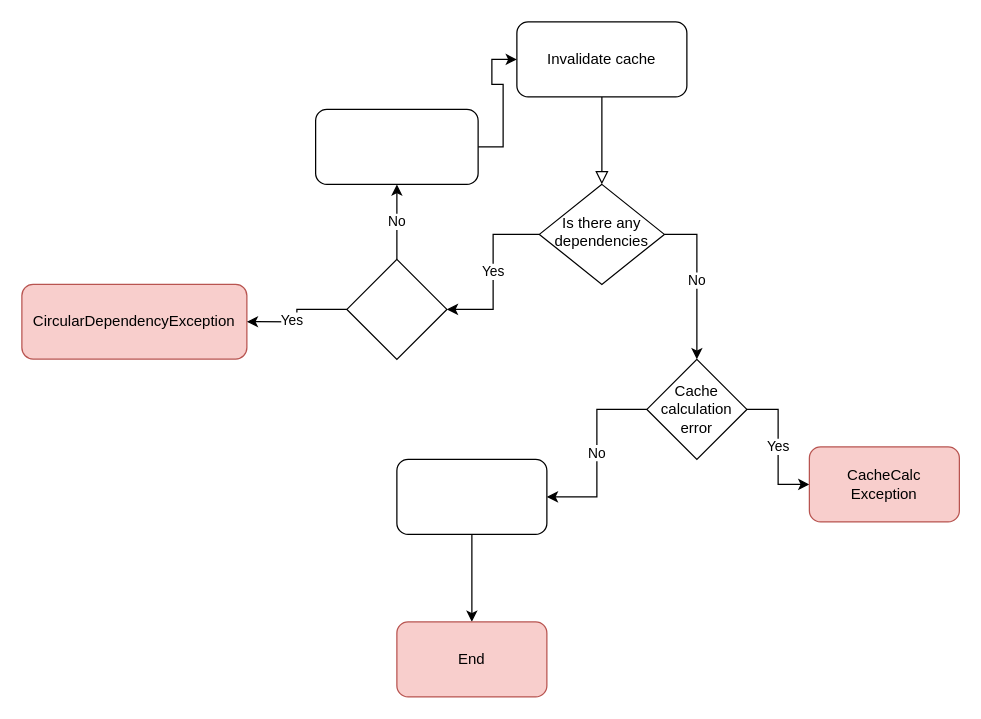
Some shapes in this 981 by 719 pixel diagram are drawn without their labels. The shapes that lost their labels are listed below. From the top down, each one's centre as x and y in pixels, then its label:
the point at 396,146: For each cell invalidate cache
the point at 396,308: Circular dependency
the point at 471,496: Save cache
